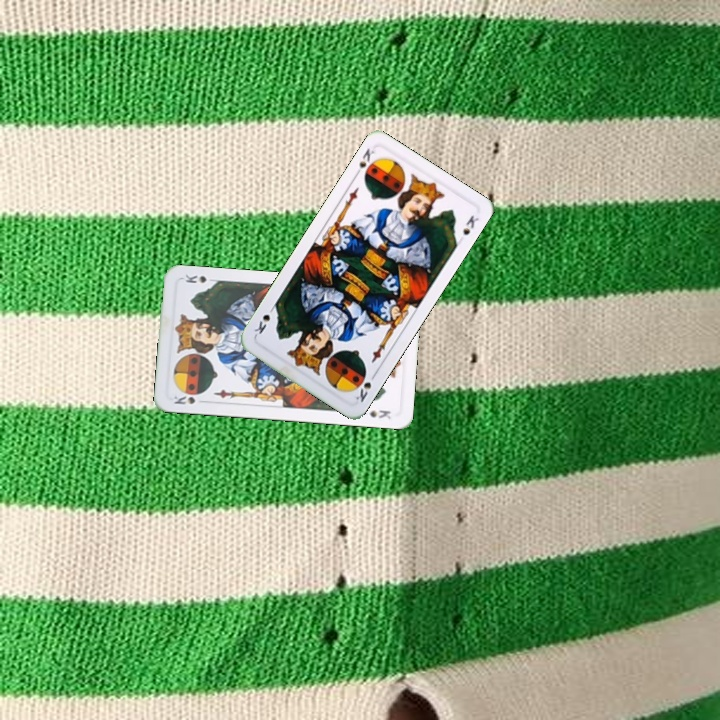SK: (351, 368, 379, 405), (350, 144, 377, 180), (170, 392, 198, 407)
